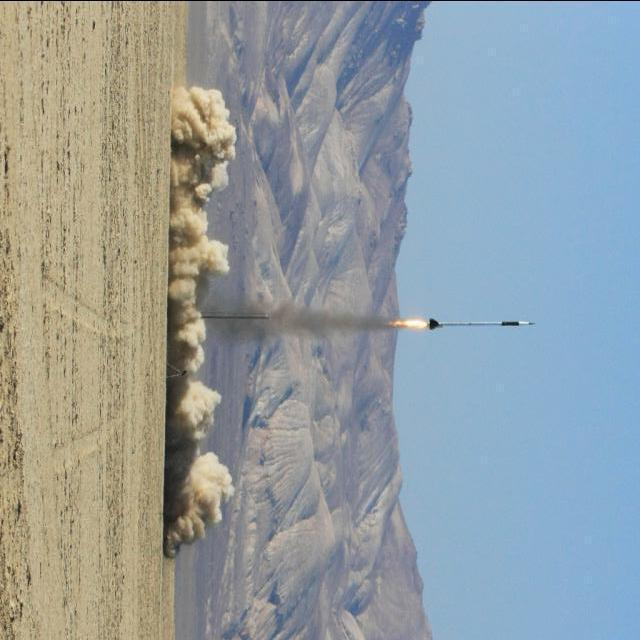missile: (415, 313, 539, 333)
